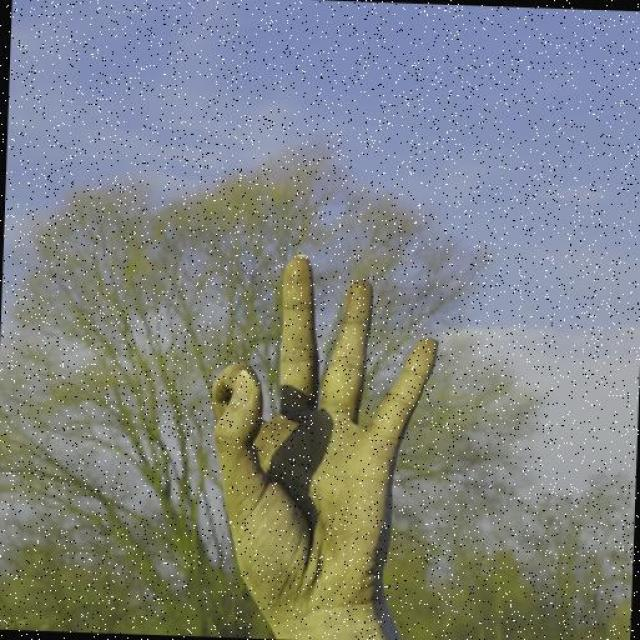F: (198, 247, 446, 632)
